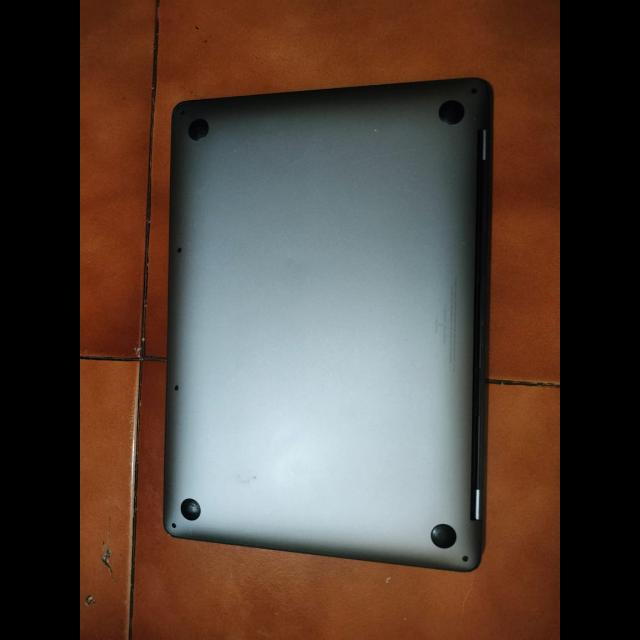laptop: (150, 58, 500, 582)
